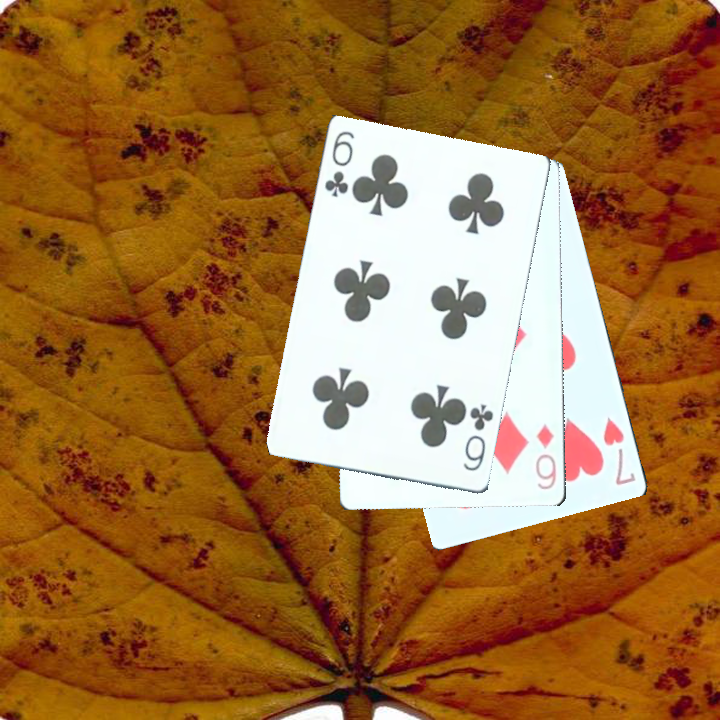6c: (459, 400, 496, 474), (320, 127, 357, 200)
6d: (531, 419, 559, 492)
7h: (599, 412, 639, 488)
